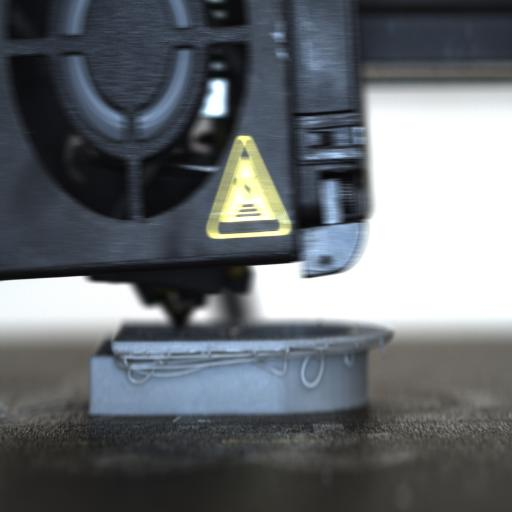layer_shift: (88, 335, 393, 363)
